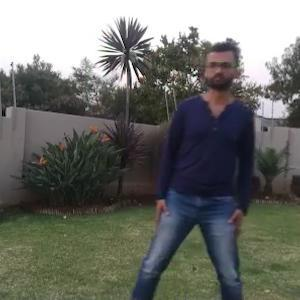follow: (158, 33, 259, 299)
